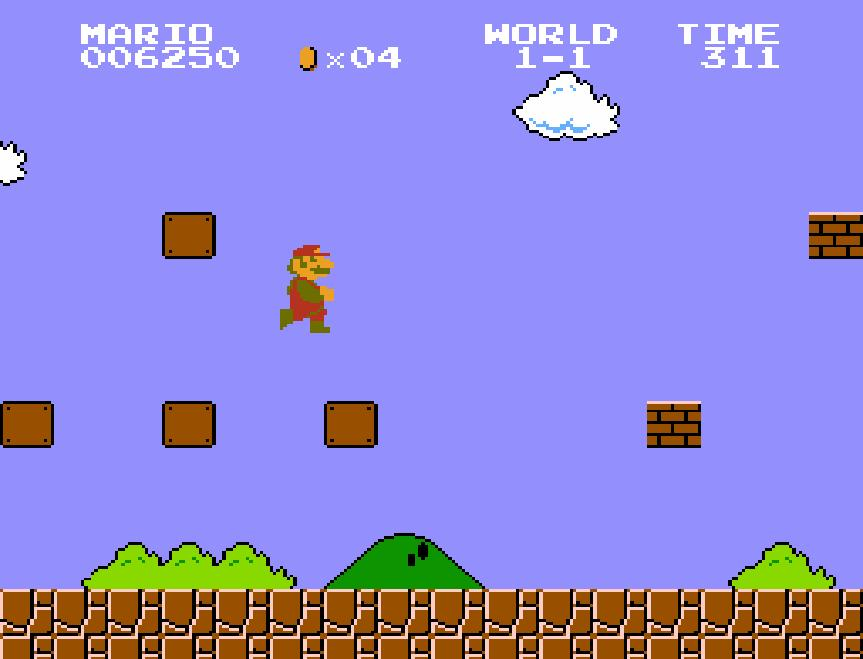big_mario: (278, 236, 336, 334)
